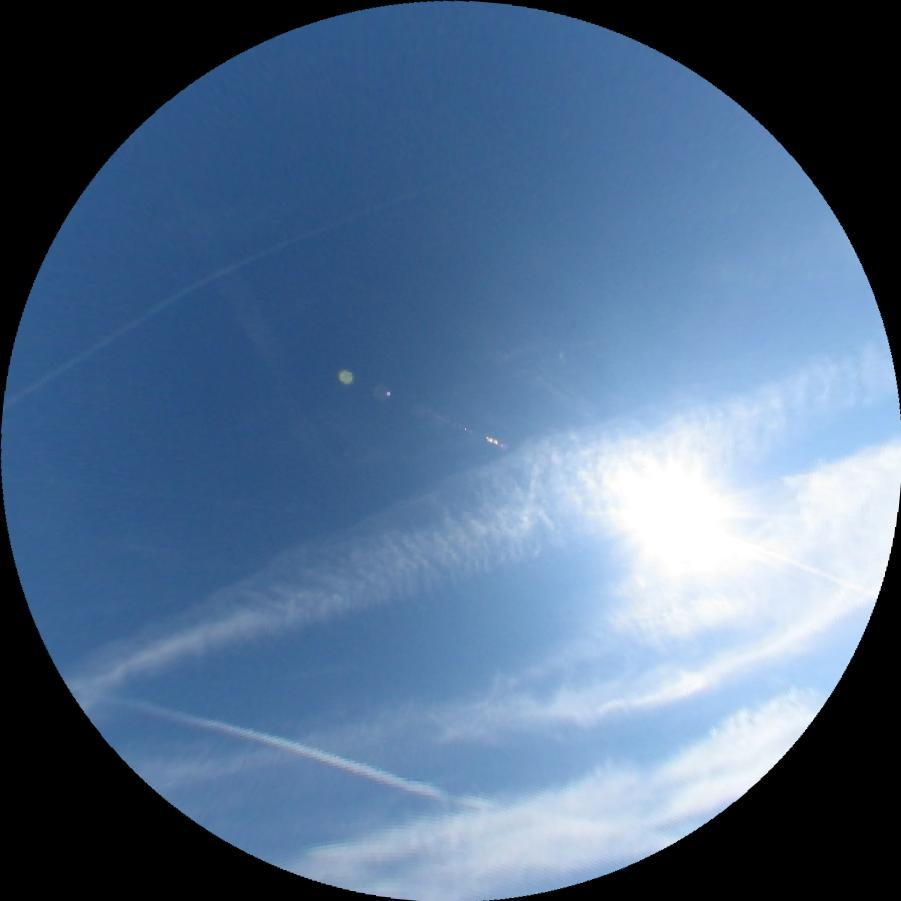contrail old: (101, 685, 513, 820)
contrail veryold: (42, 304, 901, 727)
parasite: (718, 531, 879, 598)
sun: (620, 465, 737, 572)
